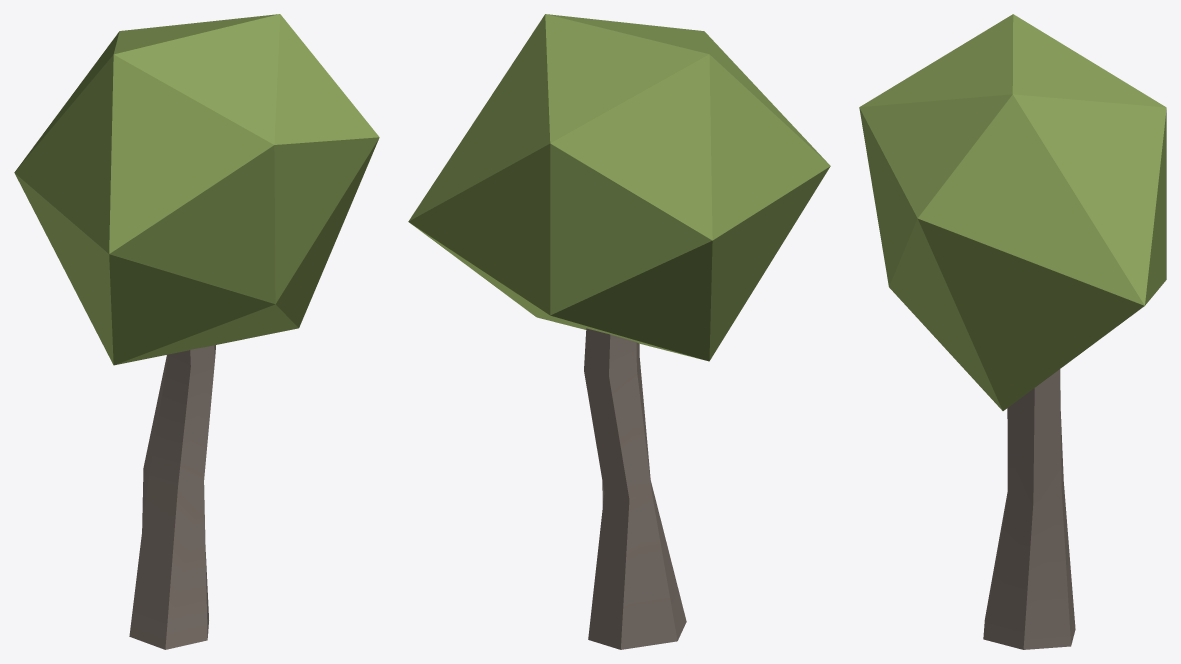
File: tree.fbx
3 views of the same model, side by side, from view 1: azimuth 30°, elevation 25°; view 2: azimuth 150°, elevation 25°; view 3: azimuth 270°, elevation 25° (orthographic).
Visible parts, largest first — view 1: pCylinder71; view 2: pCylinder71; view 3: pCylinder71.
Boxes of the visible parts, left/top/right/bottom form: pCylinder71: left=14, top=14, right=379, bottom=649; pCylinder71: left=408, top=14, right=830, bottom=649; pCylinder71: left=859, top=14, right=1166, bottom=649.
Size of the model in its own units: 316 by 593 by 281.
